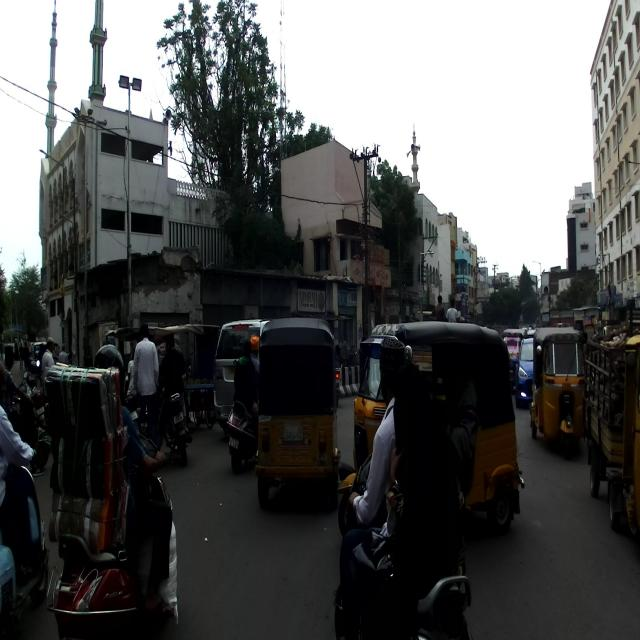Car_Mahindra: (212, 316, 276, 440)
autorickshaw: (336, 321, 525, 539), (254, 316, 342, 509), (528, 324, 588, 456)
motorcycle_Hero: (158, 379, 193, 466)
scooter: (332, 452, 473, 638), (46, 468, 182, 638), (225, 398, 259, 472)
